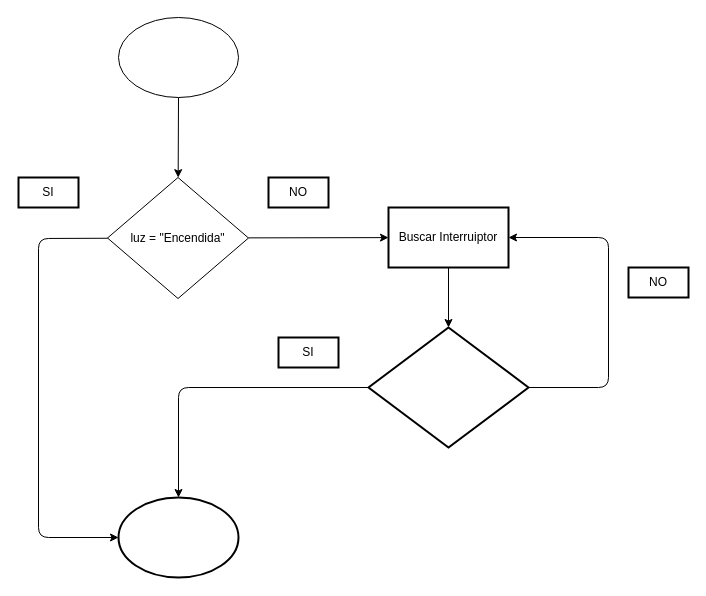
The diagram is 706 pixels wide and 596 high, and some of its shapes have lost their labels. The centre of each missing label's shape, as x and y in pixels:
"FIN" belongs at [178,537].
"INICIO" belongs at [178,57].
"Presionar Interruptor" belongs at [448,387].
